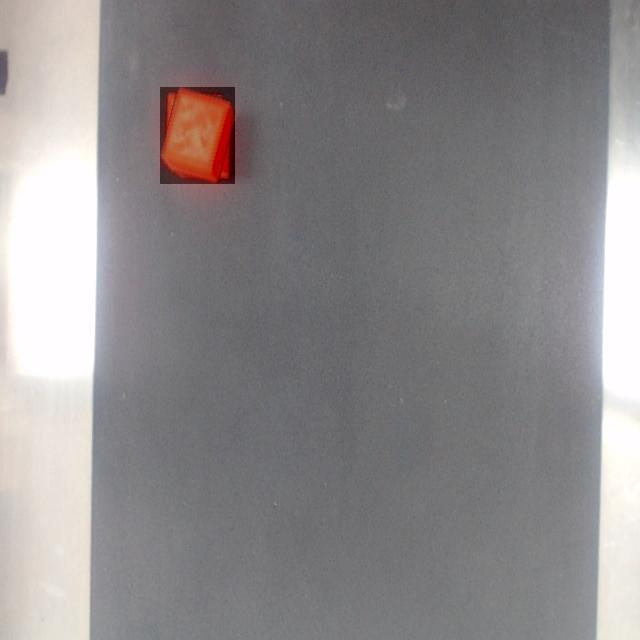Rojo: (161, 88, 235, 184)
